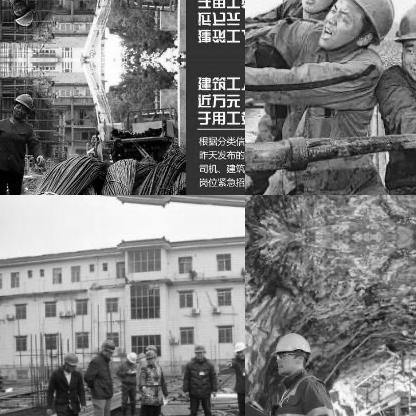Helmet: (325, 0, 398, 50), (270, 329, 312, 375), (399, 0, 415, 73), (290, 0, 355, 16), (9, 0, 35, 27), (10, 90, 34, 118), (59, 348, 81, 372), (97, 336, 116, 358), (231, 339, 244, 360), (191, 340, 205, 358), (123, 348, 137, 364), (144, 342, 158, 354), (145, 348, 155, 364)
